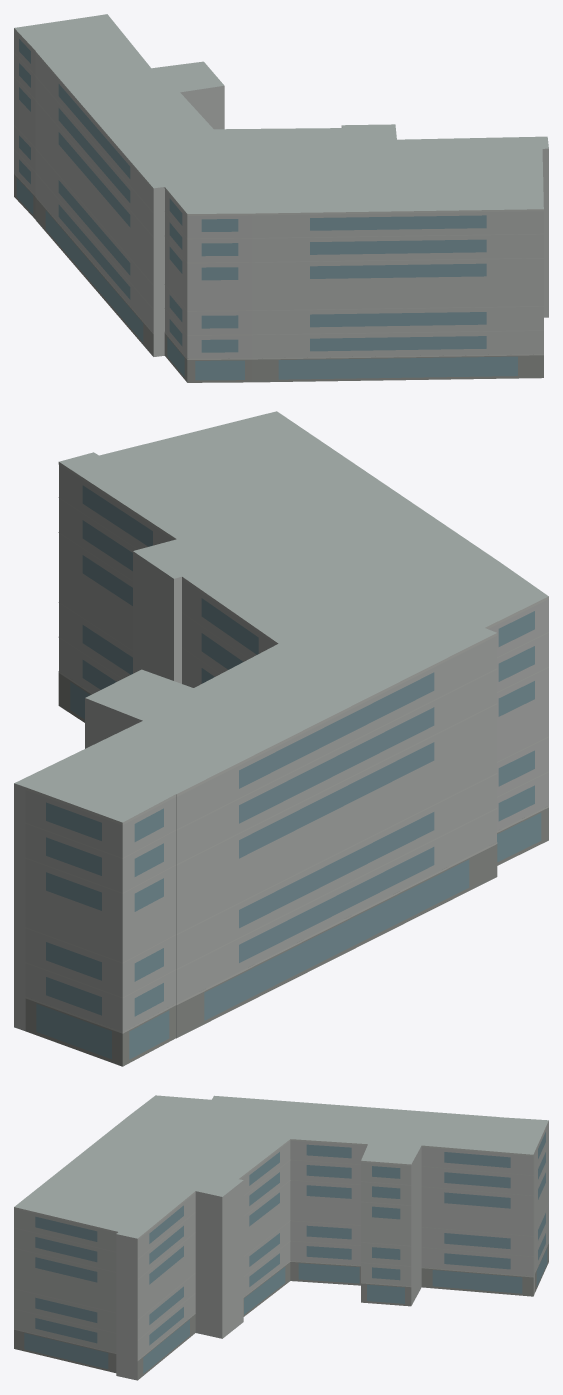
The model's file is survey-upis-32755958.glb.
3 views of the same model, one above another, from view 1: azimuth 30°, elevation 25°; view 2: azimuth 150°, elevation 25°; view 3: azimuth 270°, elevation 25° (orthographic). The views are drawn at different scales.
Parts seen in each view (by area): view 1: survey-upis-32755958.tmp; view 2: survey-upis-32755958.tmp; view 3: survey-upis-32755958.tmp.
Boxes of the visible parts, bbox=[...] form: survey-upis-32755958.tmp: bbox=[14, 14, 548, 382]; survey-upis-32755958.tmp: bbox=[14, 411, 548, 1066]; survey-upis-32755958.tmp: bbox=[14, 1095, 548, 1380].
Size of the model in its own units: 46.28 by 21.35 by 72.96.
